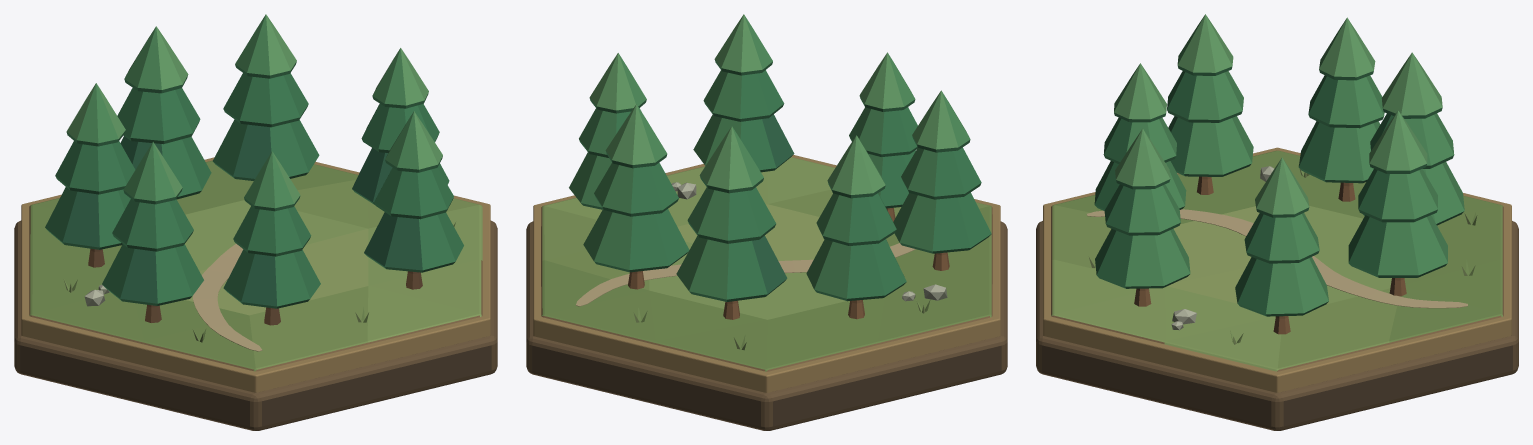
Rendered from forest.glb.
3 views of the same model, side by side, from view 1: azimuth 30°, elevation 25°; view 2: azimuth 150°, elevation 25°; view 3: azimuth 270°, elevation 25° (orthographic).
Parts seen in each view (by area): view 1: Hex_Forest_Terrain, Hex_Forest_Base, Hex_Forest_Rim, Hex_Forest_Pine_05, Hex_Forest_Pine_03, Hex_Forest_Pine_06, Hex_Forest_Pine_07, Hex_Forest_Pine_01, Hex_Forest_Pine_02, Hex_Forest_Pine_04, Hex_Forest_Path; view 2: Hex_Forest_Terrain, Hex_Forest_Base, Hex_Forest_Rim, Hex_Forest_Pine_02, Hex_Forest_Pine_03, Hex_Forest_Pine_01, Hex_Forest_Pine_05, Hex_Forest_Pine_06, Hex_Forest_Pine_07, Hex_Forest_Pine_04, Hex_Forest_Path, Hex_Forest_Rocks; view 3: Hex_Forest_Terrain, Hex_Forest_Base, Hex_Forest_Rim, Hex_Forest_Pine_03, Hex_Forest_Pine_06, Hex_Forest_Pine_05, Hex_Forest_Pine_04, Hex_Forest_Pine_01, Hex_Forest_Pine_02, Hex_Forest_Pine_07, Hex_Forest_Path, Hex_Forest_Rocks.
Part boxes in pixels (x1,y1,x2,y2): Hex_Forest_Terrain: (29, 160, 482, 371); Hex_Forest_Base: (14, 220, 497, 430); Hex_Forest_Rim: (21, 157, 490, 392); Hex_Forest_Pine_05: (102, 142, 203, 322); Hex_Forest_Pine_03: (212, 14, 319, 180); Hex_Forest_Pine_06: (364, 111, 463, 289); Hex_Forest_Pine_07: (223, 151, 320, 325); Hex_Forest_Pine_01: (45, 83, 135, 267); Hex_Forest_Pine_02: (117, 26, 211, 199); Hex_Forest_Pine_04: (352, 48, 449, 204); Hex_Forest_Path: (193, 243, 262, 351); Hex_Forest_Terrain: (541, 157, 992, 371); Hex_Forest_Base: (526, 221, 1007, 430); Hex_Forest_Rim: (533, 155, 1000, 392); Hex_Forest_Pine_02: (676, 126, 787, 319); Hex_Forest_Pine_03: (583, 104, 689, 289); Hex_Forest_Pine_01: (806, 135, 906, 319); Hex_Forest_Pine_05: (893, 90, 991, 270); Hex_Forest_Pine_06: (693, 14, 794, 172); Hex_Forest_Pine_07: (849, 52, 917, 221); Hex_Forest_Pine_04: (569, 53, 646, 209); Hex_Forest_Path: (575, 243, 915, 306); Hex_Forest_Rocks: (671, 182, 947, 301); Hex_Forest_Terrain: (1051, 150, 1503, 371); Hex_Forest_Base: (1036, 221, 1518, 430); Hex_Forest_Rim: (1043, 147, 1511, 392); Hex_Forest_Pine_03: (1348, 110, 1447, 296); Hex_Forest_Pine_06: (1095, 128, 1190, 306); Hex_Forest_Pine_05: (1167, 14, 1253, 194); Hex_Forest_Pine_04: (1235, 157, 1328, 334); Hex_Forest_Pine_01: (1298, 17, 1384, 201); Hex_Forest_Pine_02: (1363, 52, 1464, 225); Hex_Forest_Pine_07: (1094, 63, 1186, 210); Hex_Forest_Path: (1086, 209, 1467, 308); Hex_Forest_Rocks: (1171, 166, 1274, 330).
Size of the model in its own units: 2.38 by 1.18 by 2.08.
